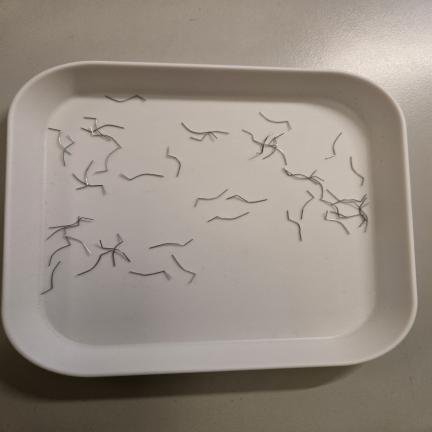probe: (172, 255, 196, 283), (42, 261, 61, 294), (194, 189, 228, 207), (259, 112, 292, 130), (325, 211, 350, 234), (287, 210, 302, 241), (325, 132, 342, 159), (149, 239, 193, 249), (167, 147, 181, 177), (208, 212, 249, 222), (350, 157, 364, 186), (300, 191, 314, 219), (129, 270, 172, 278), (226, 195, 267, 203), (121, 173, 163, 180), (106, 95, 146, 102)
